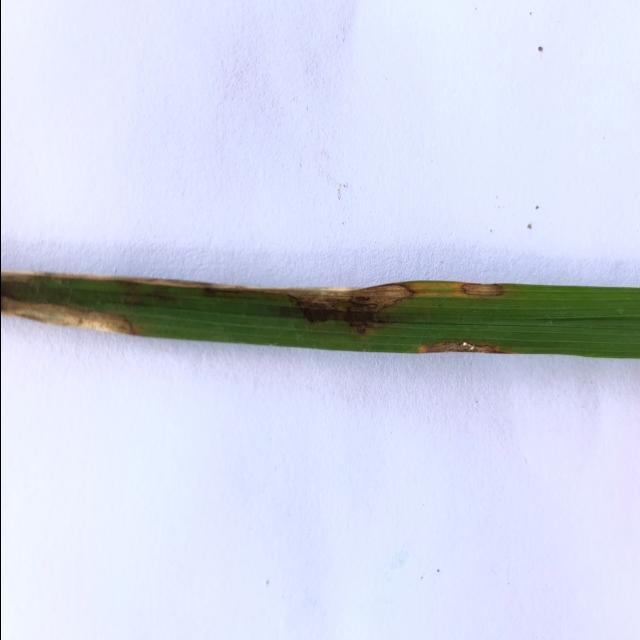Leaf Blight: (0, 271, 505, 328), (0, 294, 135, 334), (414, 344, 523, 357)
